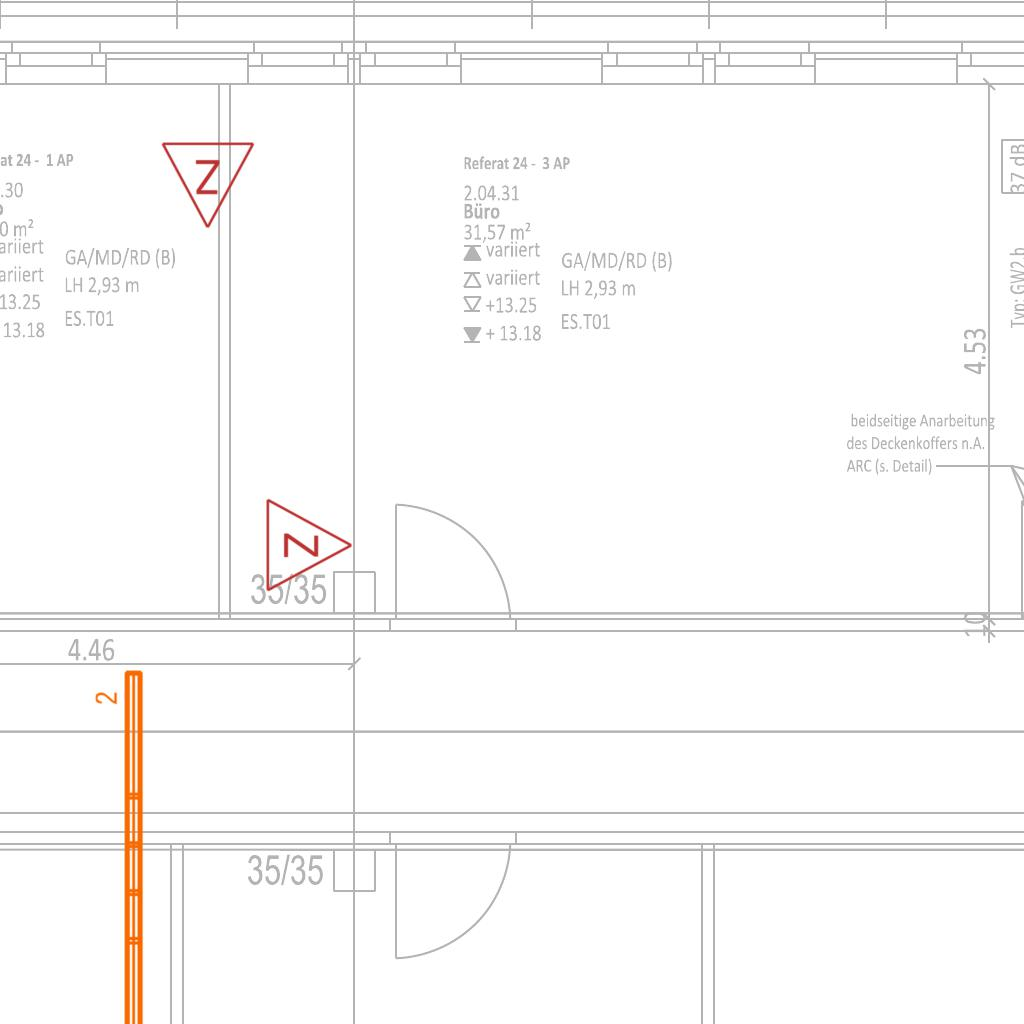Ambulanz_Pendelleuchte_LED: (93, 666, 149, 1024)
Zimmersignalleuchte: (259, 495, 359, 593), (160, 135, 258, 235)
